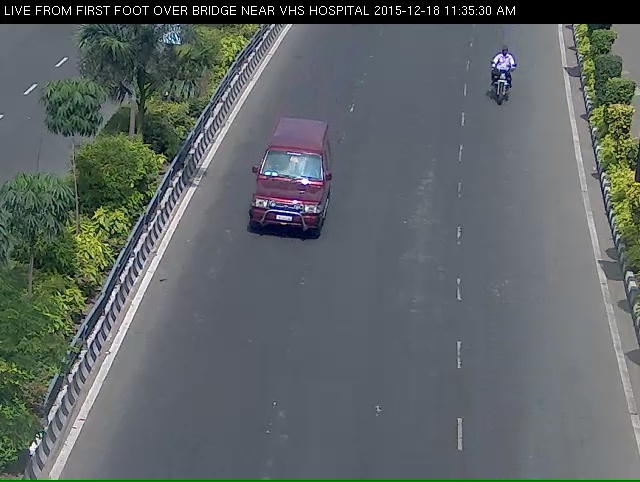Car: (241, 127, 331, 271)
Person: (477, 49, 531, 124)
